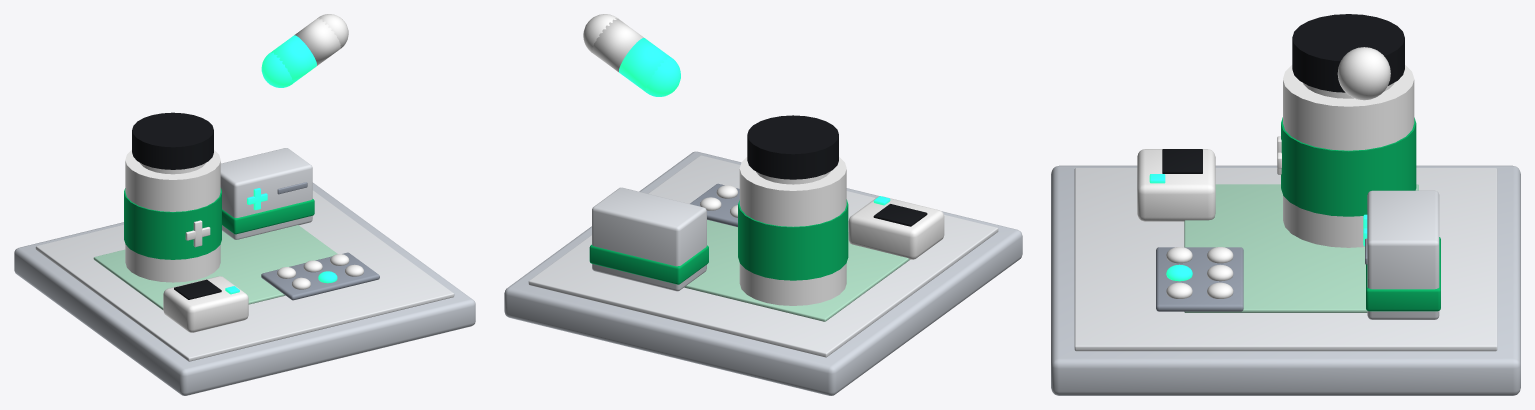
Rendered from tile-medicine.glb.
3 views of the same model, side by side, from view 1: azimuth 30°, elevation 25°; view 2: azimuth 150°, elevation 25°; view 3: azimuth 270°, elevation 25° (orthographic). The views are drawn at different scales.
Visible parts, largest first — view 1: Order_floor, Order_slab, o_mat, o_bottle, o_box, o_bottle_label, o_bottle_cap, o_monitor, o_blister, o_box_band, o_s1_pill_w, o_s1_pill_g (+3 smaller); view 2: Order_slab, Order_floor, o_bottle, o_box, o_bottle_label, o_mat, o_bottle_cap, o_monitor, o_box_band, o_s1_pill_w, o_s1_pill_g, o_s1_pill_cg (+3 smaller); view 3: Order_floor, Order_slab, o_mat, o_bottle, o_bottle_label, o_box, o_bottle_cap, o_monitor, o_blister, o_s1_pill_cw, o_box_band, o_monitor_screen.
Boxes of the visible parts, left/top/right/bottom form: Order_floor: left=35, top=190, right=454, bottom=361; Order_slab: left=14, top=182, right=475, bottom=395; o_mat: left=93, top=225, right=337, bottom=309; o_bottle: left=125, top=150, right=220, bottom=282; o_box: left=220, top=148, right=312, bottom=239; o_bottle_label: left=124, top=188, right=221, bottom=259; o_bottle_cap: left=132, top=112, right=213, bottom=169; o_monitor: left=163, top=276, right=248, bottom=332; o_blister: left=261, top=252, right=379, bottom=300; o_box_band: left=222, top=199, right=314, bottom=234; o_s1_pill_w: left=294, top=17, right=341, bottom=65; o_s1_pill_g: left=271, top=35, right=316, bottom=83; Order_slab: left=504, top=151, right=1022, bottom=395; Order_floor: left=528, top=155, right=998, bottom=357; o_bottle: left=739, top=157, right=846, bottom=305; o_box: left=592, top=187, right=706, bottom=291; o_bottle_label: left=738, top=199, right=848, bottom=280; o_mat: left=684, top=220, right=909, bottom=321; o_bottle_cap: left=747, top=115, right=838, bottom=179; o_monitor: left=848, top=196, right=944, bottom=259; o_box_band: left=589, top=244, right=708, bottom=284; o_s1_pill_w: left=591, top=18, right=643, bottom=72; o_s1_pill_g: left=619, top=38, right=670, bottom=91; o_s1_pill_cg: left=645, top=56, right=680, bottom=96; Order_floor: left=1074, top=168, right=1497, bottom=351; Order_slab: left=1051, top=165, right=1520, bottom=395; o_mat: left=1184, top=184, right=1418, bottom=312; o_bottle: left=1283, top=65, right=1414, bottom=247; o_bottle_label: left=1281, top=117, right=1416, bottom=216; o_box: left=1367, top=190, right=1439, bottom=319; o_bottle_cap: left=1292, top=14, right=1404, bottom=92; o_monitor: left=1137, top=149, right=1215, bottom=221; o_blister: left=1156, top=247, right=1243, bottom=311; o_s1_pill_cw: left=1337, top=47, right=1390, bottom=100; o_box_band: left=1366, top=237, right=1440, bottom=311; o_monitor_screen: left=1162, top=149, right=1202, bottom=173.
Size of the model in its own units: 3 by 2.29 by 3.
